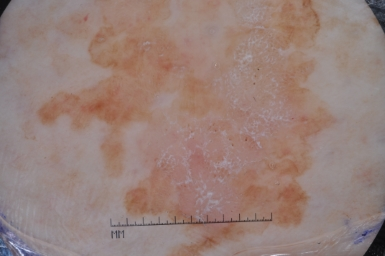seborrheic keratosis: (47, 4, 328, 211)
